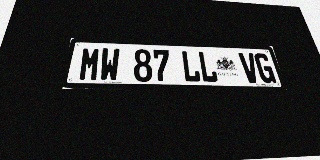7: (152, 49, 171, 82)
8: (134, 49, 152, 82)
G: (253, 53, 277, 83)
L: (197, 51, 219, 82), (181, 50, 201, 82)
M: (78, 47, 101, 81)
V: (238, 53, 261, 83)
W: (99, 48, 120, 81)
